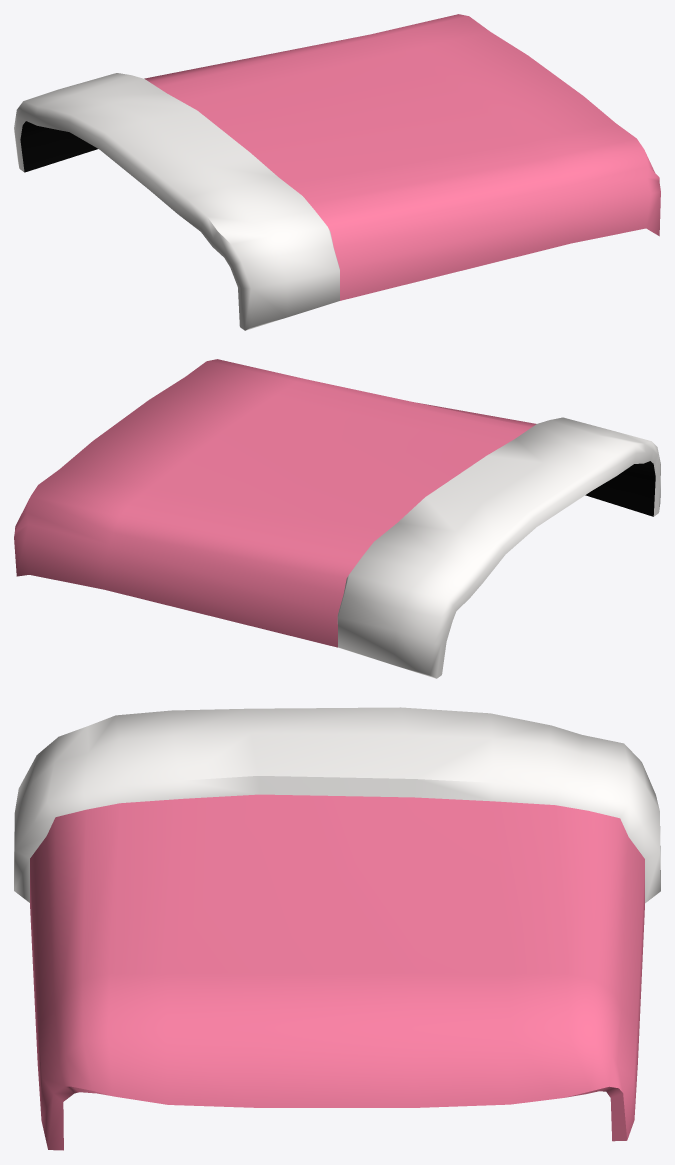
File: Bed_Blanket.fbx
3 views of the same model, one above another, from view 1: azimuth 30°, elevation 25°; view 2: azimuth 150°, elevation 25°; view 3: azimuth 270°, elevation 25° (orthographic). The views are drawn at different scales.
Visible parts, largest first — view 1: Bed_Blanket; view 2: Bed_Blanket; view 3: Bed_Blanket.
Part boxes in pixels (bbox=[...]): Bed_Blanket: bbox=[14, 14, 660, 330]; Bed_Blanket: bbox=[14, 359, 660, 678]; Bed_Blanket: bbox=[14, 707, 660, 1150].
Bounding box in the file's own units: 217 × 51.83 × 193.
